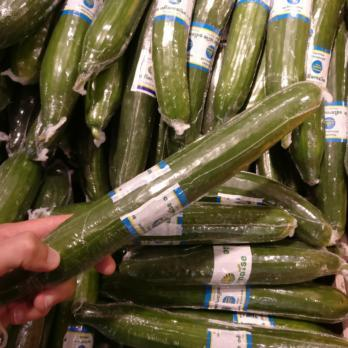Cucumber: (0, 0, 348, 216), (120, 215, 348, 348)
